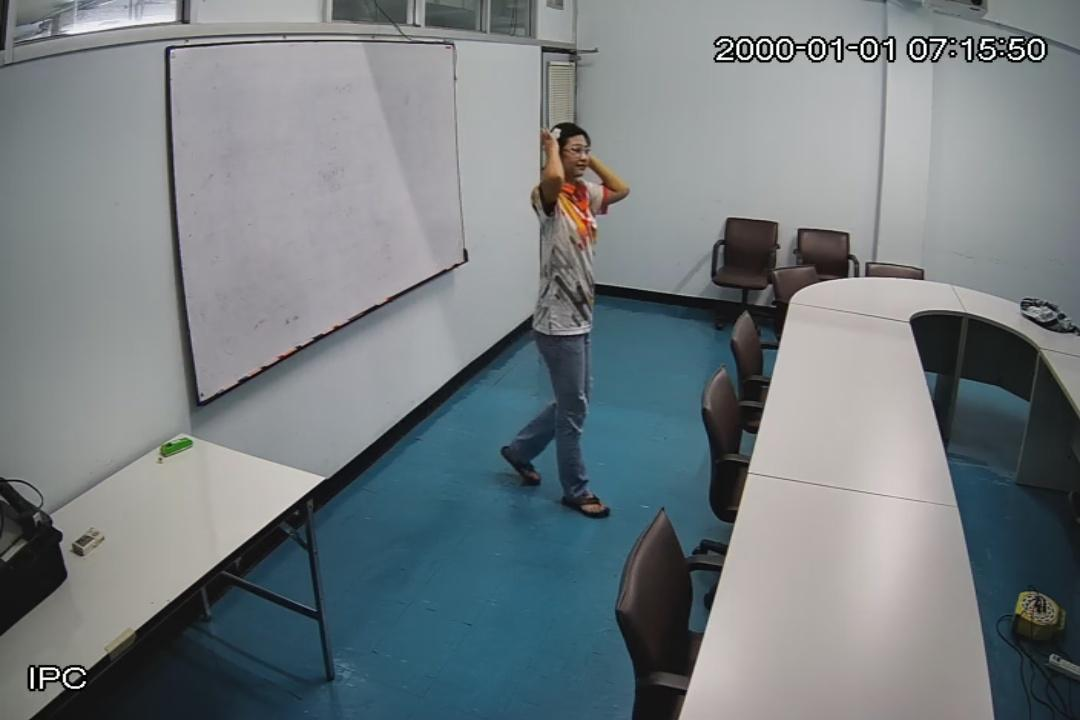normal: (503, 119, 627, 519)
